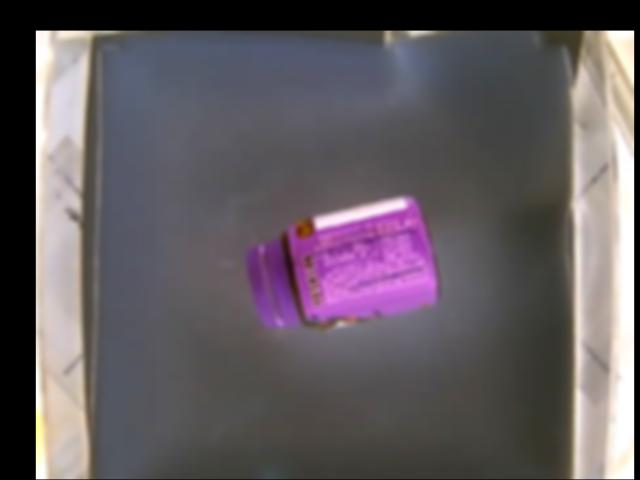Bottle: (245, 190, 439, 333)
